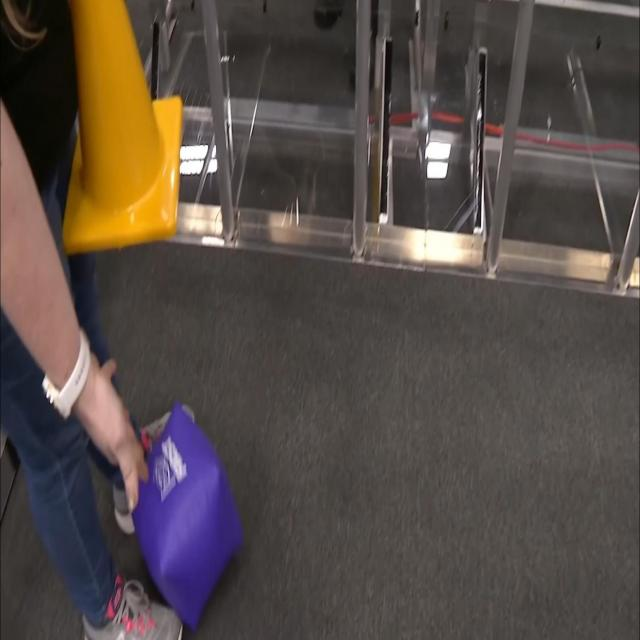frc_cone: (50, 0, 182, 255)
frc_cube: (128, 399, 242, 630)
